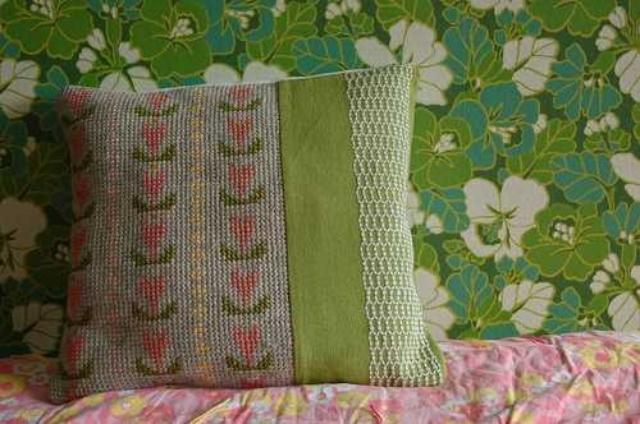pillow: (47, 63, 441, 403)
